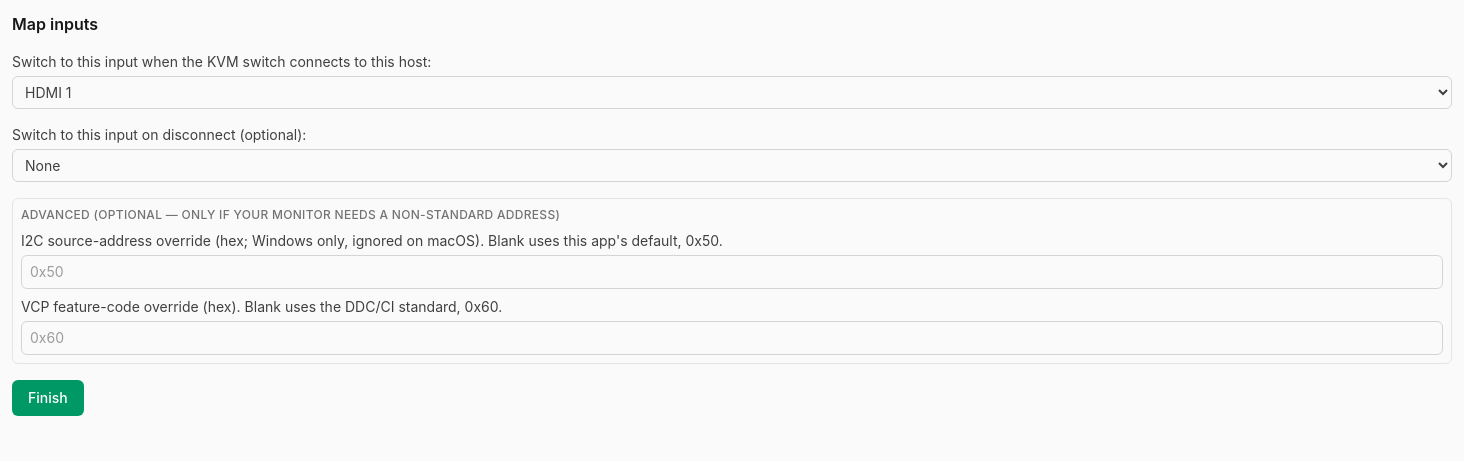
Test: InputMappingStep › disables Finish and shows an inline error for an invalid override
This screenshot has width=1464, height=461.
Type "zz" into the field with placeholder "0x50". click: x=732, y=272
box: left=21, top=255, right=1443, bottom=289
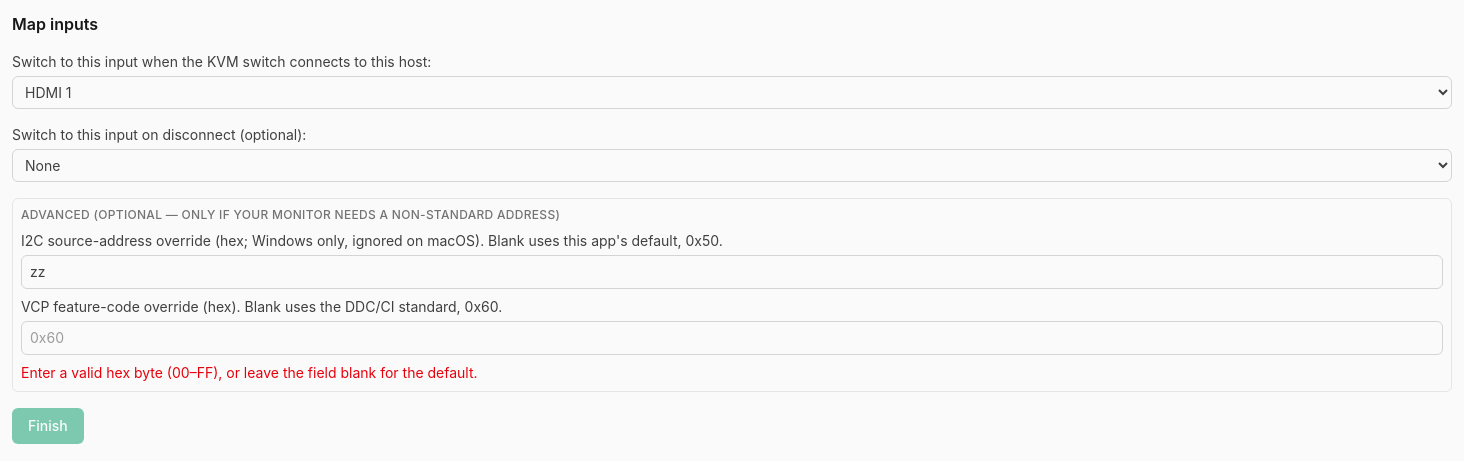
Result: the message shows "valid hex byte" at left=21, top=364, right=478, bottom=381
Result: the button "Finish" is disabled at left=12, top=408, right=84, bottom=444
